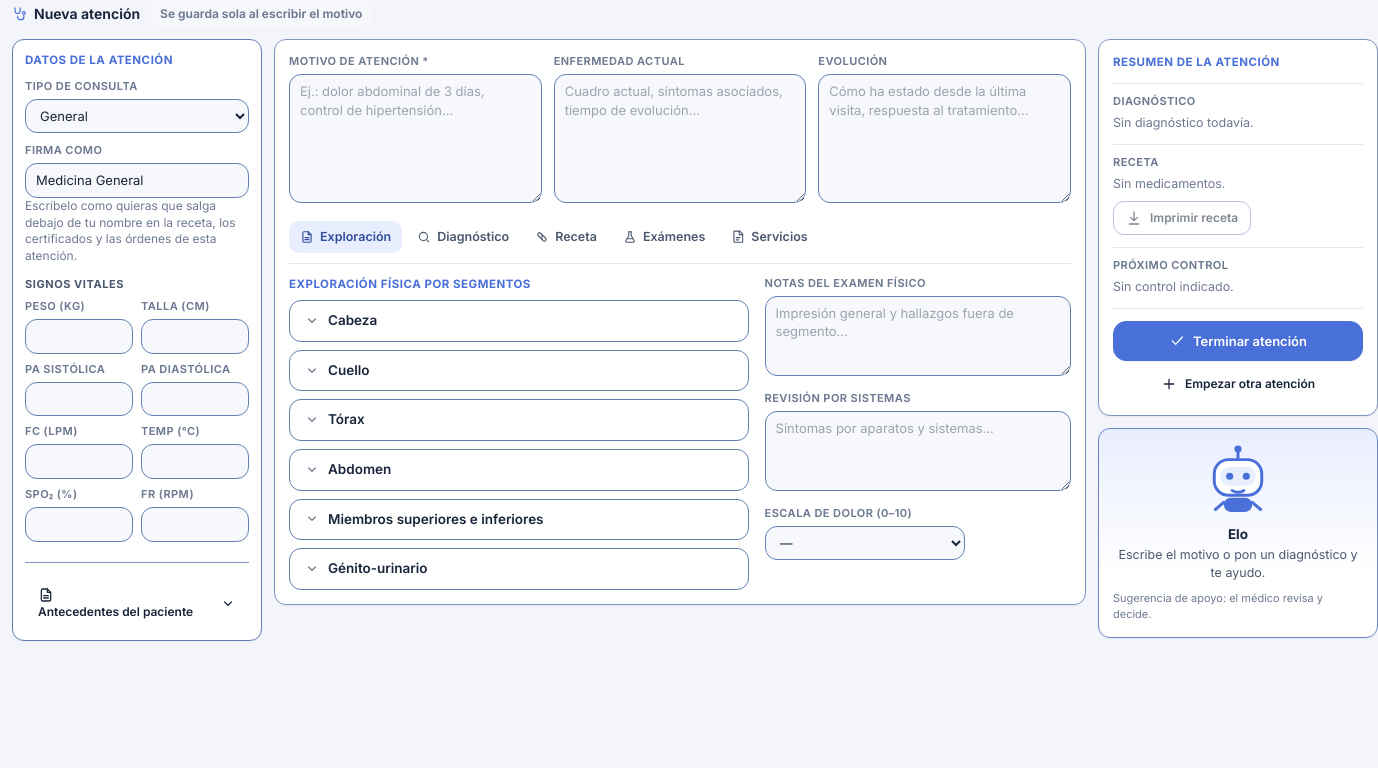
Test case: EncounterSection › finishes a visit onto the closure screen without crashing
Step 1. Type "Dolor de garganta" into the text box labelled "Motivo de atención *" → (415, 139), box [289, 74, 542, 203]
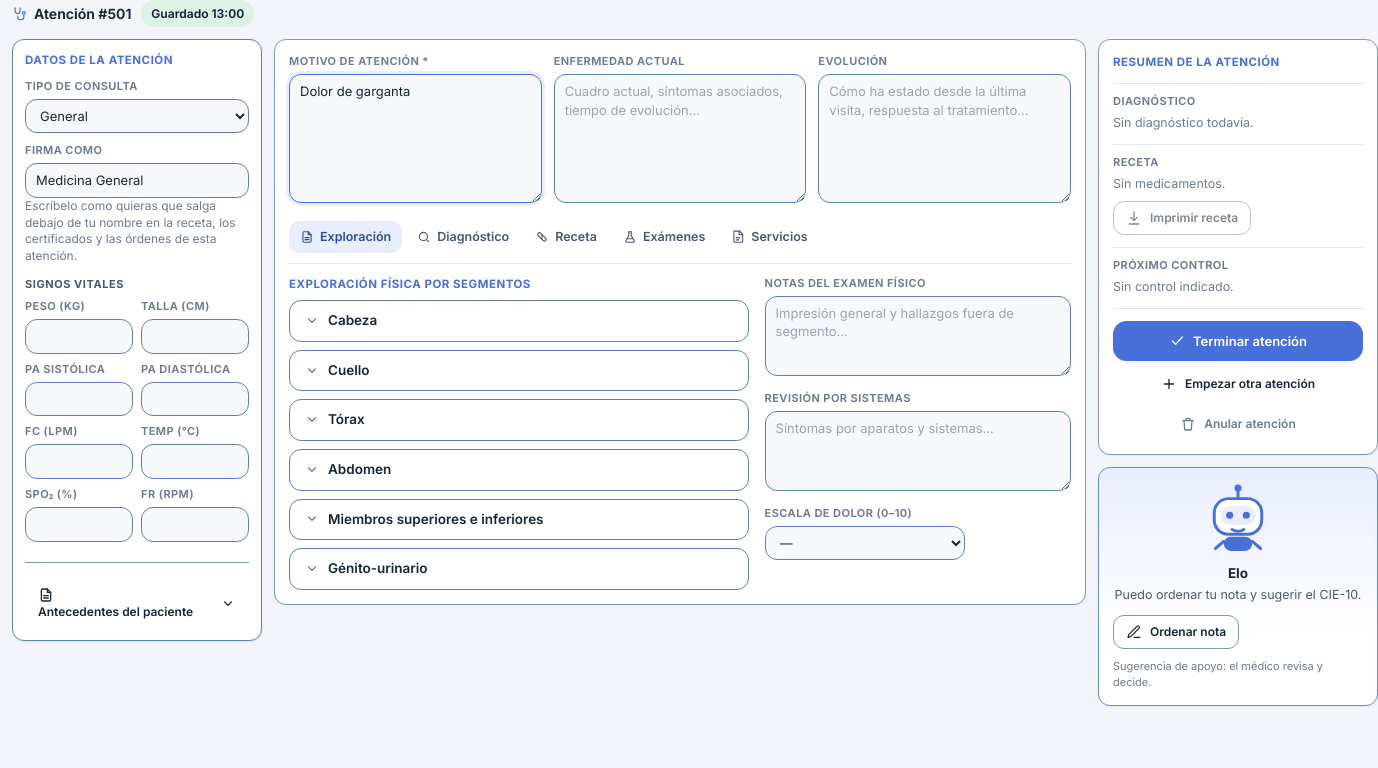
Step 2. Click the button "Terminar atención" → (1238, 341), box [1113, 321, 1363, 361]
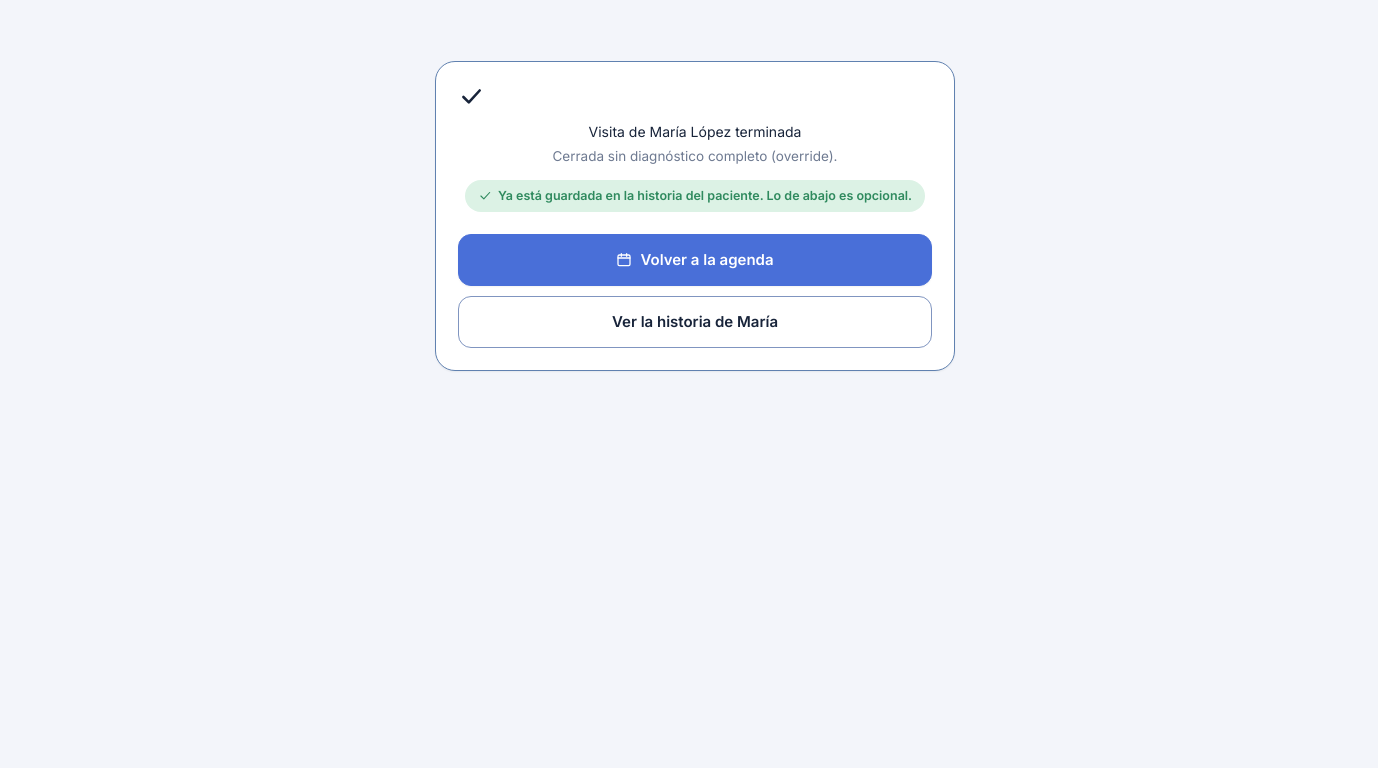
Result: the heading "Visita de María López terminada" is shown at [588, 123, 801, 140]
